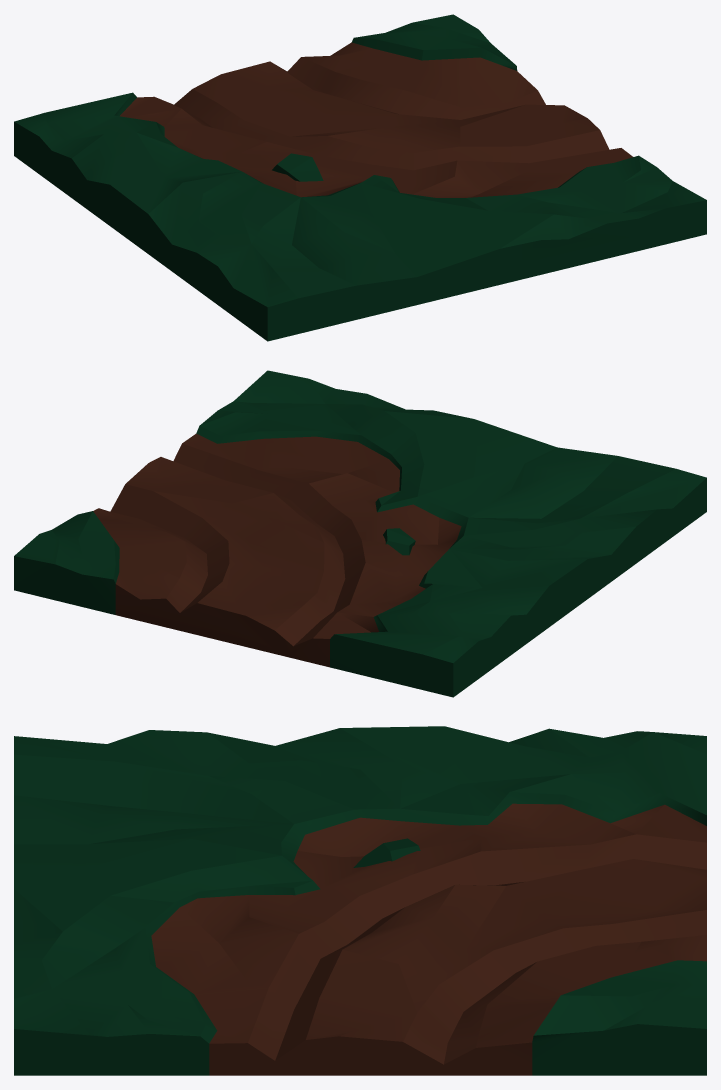
The model's file is Ground_Road_Turn_LB.fbx.
3 views of the same model, one above another, from view 1: azimuth 30°, elevation 25°; view 2: azimuth 150°, elevation 25°; view 3: azimuth 270°, elevation 25° (orthographic). The views are drawn at different scales.
Visible parts, largest first — view 1: Ground_Road_Turn_LB; view 2: Ground_Road_Turn_LB; view 3: Ground_Road_Turn_LB.
Boxes of the visible parts, x1,y1,x2,y2 form: Ground_Road_Turn_LB: (14,14,706,341); Ground_Road_Turn_LB: (14,370,706,697); Ground_Road_Turn_LB: (14,726,706,1075).
Bounding box in the file's own units: 147 × 14.83 × 147.
